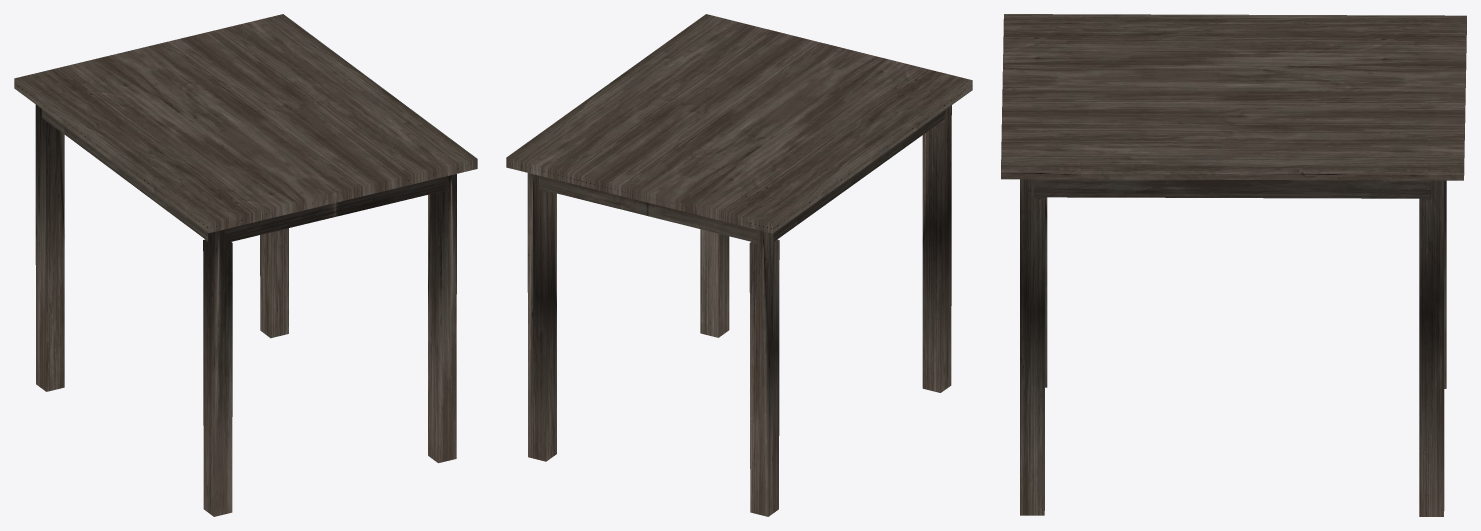
3 views of the same model, side by side, from view 1: azimuth 30°, elevation 25°; view 2: azimuth 150°, elevation 25°; view 3: azimuth 270°, elevation 25° (orthographic). The views are drawn at different scales.
Visible parts, largest first — view 1: Bistro_Research_Interior_Paris_Table_02A__3248; view 2: Bistro_Research_Interior_Paris_Table_02A__3248; view 3: Bistro_Research_Interior_Paris_Table_02A__3248.
Boxes of the visible parts, x1,y1,x2,y2 form: Bistro_Research_Interior_Paris_Table_02A__3248: [14, 14, 477, 516]; Bistro_Research_Interior_Paris_Table_02A__3248: [506, 14, 972, 516]; Bistro_Research_Interior_Paris_Table_02A__3248: [1001, 14, 1466, 516].
Bounding box in the file's own units: 0.7085 × 0.7575 × 0.8997.
Materials: 1 (1 with a texture image).
